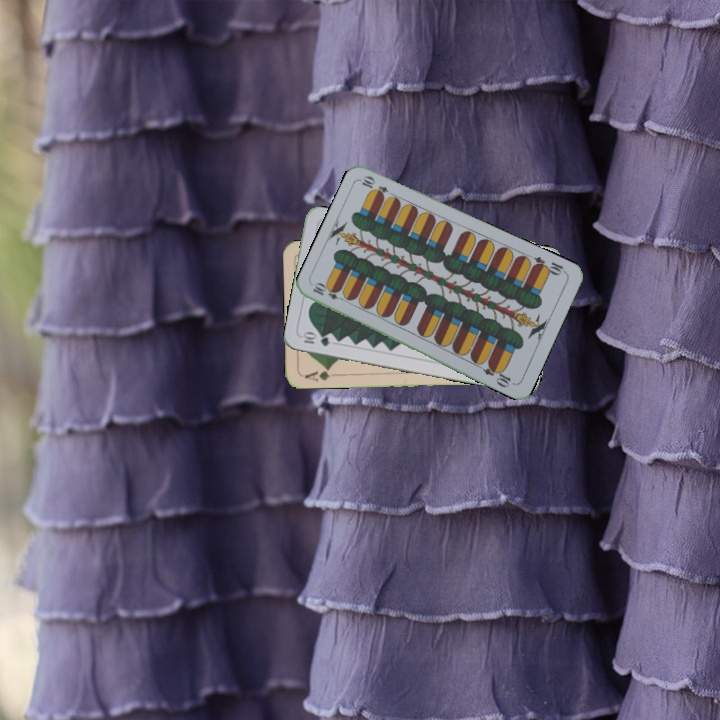E10: (529, 252, 569, 278), (309, 280, 348, 304)
G10: (298, 329, 332, 349)
GA: (301, 364, 340, 384)
